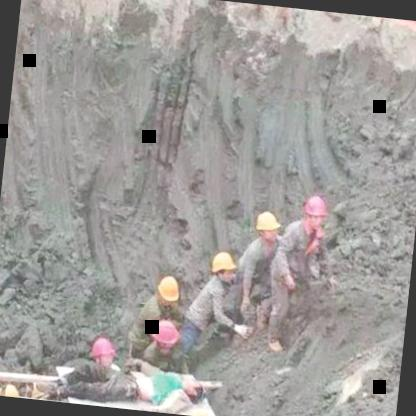helmet: (147, 316, 185, 356), (300, 192, 330, 234), (87, 335, 119, 372), (207, 250, 238, 288), (252, 208, 281, 248), (154, 270, 182, 310)
